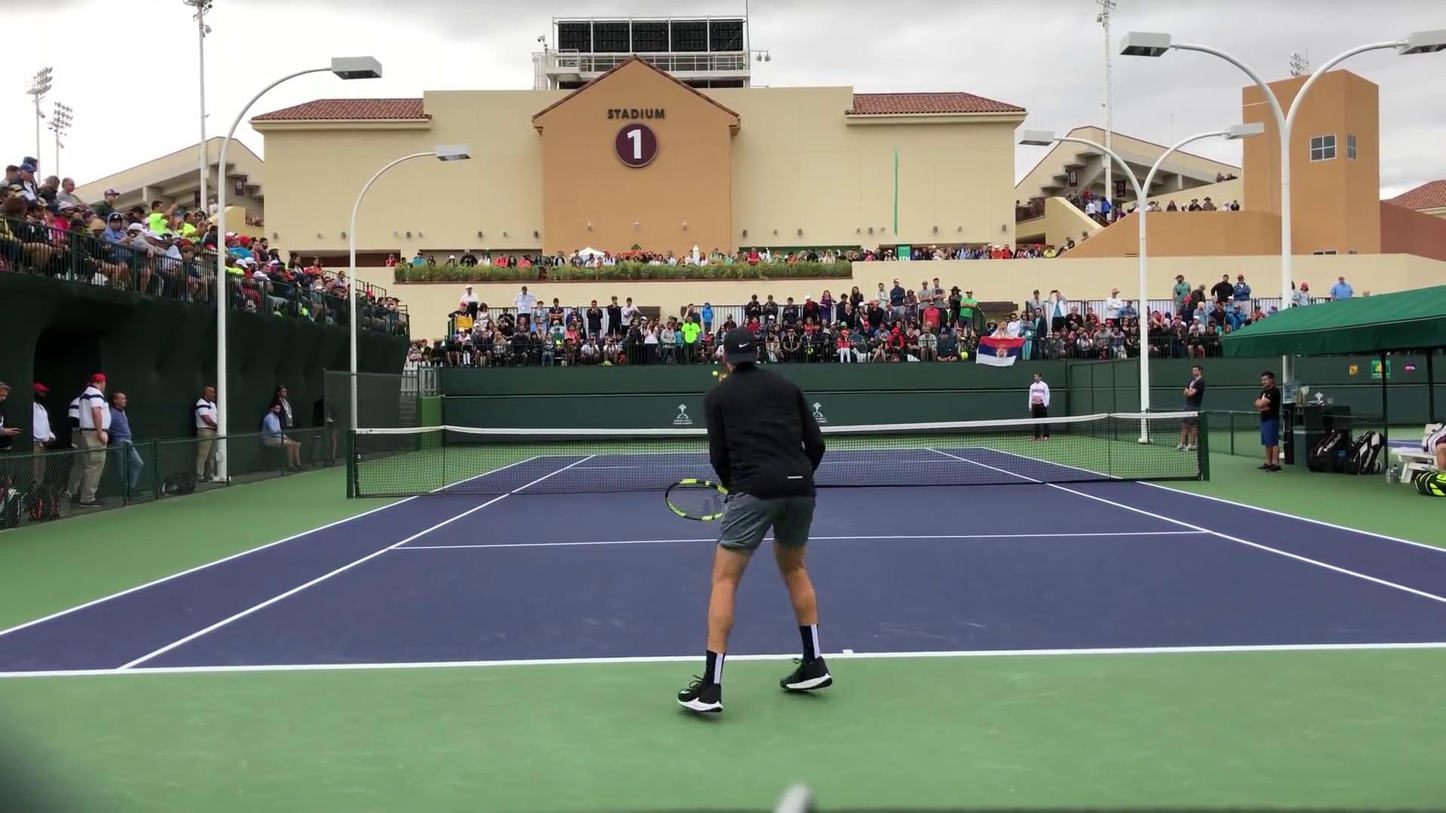ball: (709, 368, 718, 377)
